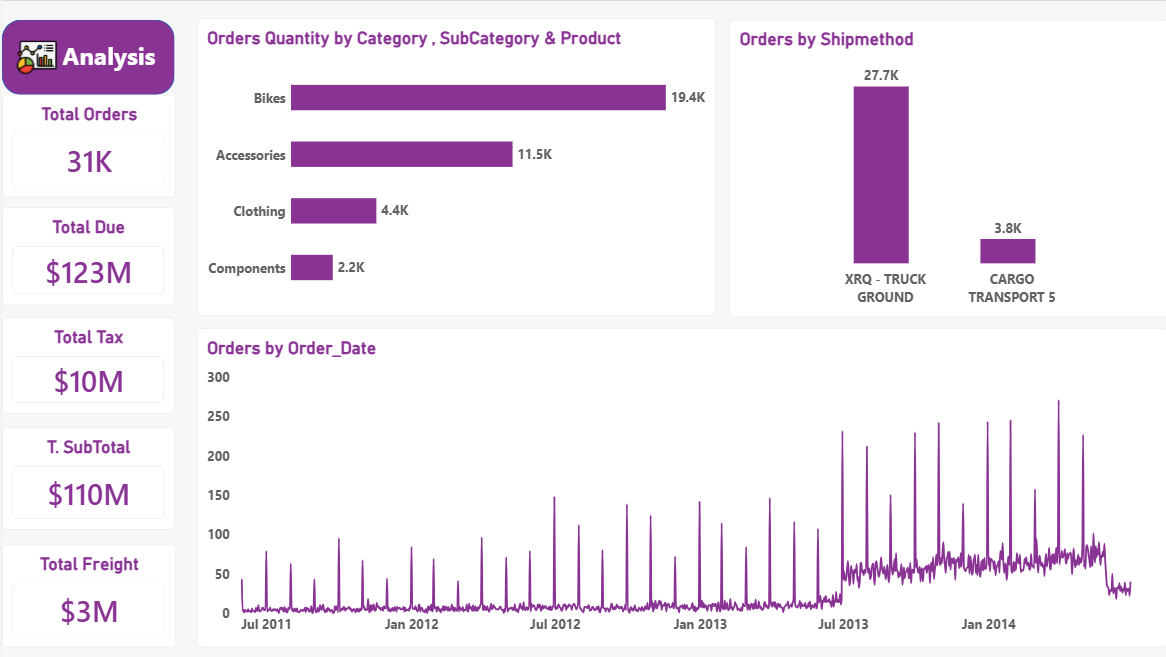

The page's visual inventory and layout, read from the dashboard file:
{"tool":"powerbi","page":{"name":"Overview","canvas":[1920,1080],"ordinal":1},"visuals":[{"type":"cardVisual","title":"Total Orders","fields":{"Data":["Sum(Measure_Summary.Orders)"]},"box":[0,154.2,286.1,168.8],"z":0},{"type":"cardVisual","title":"Total Tax","fields":{"Data":["Sum(Measure_Summary.Total Tax)"]},"box":[0,520.8,284,158.5],"z":1000},{"type":"cardVisual","title":"Total Freight","fields":{"Data":["Sum(Measure_Summary.Total Freight)"]},"box":[0,895.4,286.1,168.8],"z":2000},{"type":"cardVisual","title":"Total Due","fields":{"Data":["Sum(Measure_Summary.Total Due)"]},"box":[0,339.6,284,160.5],"z":3000},{"type":"cardVisual","title":"T. SubTotal","fields":{"Data":["Sum(Measure_Summary.Total SubTotal)"]},"box":[0,702.1,284,168.8],"z":4000},{"type":"lineChart","fields":{"Category":["Order_Header.Order_Date"],"Y":["Order_Header.Orders"]},"box":[321.1,539.3,1599.3,524.9],"z":5000},{"type":"clusteredColumnChart","title":"Orders by Shipmethod","fields":{"Category":["Ship_Method.Name"],"Y":["Order_Header.Orders"]},"box":[1197.9,30.9,722.5,489.9],"z":6000},{"type":"clusteredBarChart","title":"Orders Quantity by Category , SubCategory & Product","fields":{"Category":["Product_Category.Name","Product_Subcategory.Name","Product.Name"],"Y":["Order_Header.Qty"]},"box":[320.8,29.2,854.2,489.9],"z":7000},{"type":"shape","box":[0,30.9,284,123.5],"z":8000},{"type":"actionButton","box":[14.4,51.5,86.4,82.3],"z":9000},{"type":"actionButton","box":[65.9,45.3,220.2,88.5],"z":10000}]}

Visuals, with their boxes in screenshot pixels (x1, y1, x2, y2), scaled from the page's 1920x1080 canvas onto the 1166x657 screenshot:
"Total Orders" cardVisual: (0, 94, 174, 196)
"Total Tax" cardVisual: (0, 317, 172, 413)
"Total Freight" cardVisual: (0, 545, 174, 647)
"Total Due" cardVisual: (0, 207, 172, 304)
"T. SubTotal" cardVisual: (0, 427, 172, 530)
lineChart - Order_Header.Order_Date x Order_Header.Orders: (195, 328, 1165, 647)
"Orders by Shipmethod" clusteredColumnChart: (727, 19, 1165, 317)
"Orders Quantity by Category , SubCategory & Product" clusteredBarChart: (195, 18, 714, 316)
shape: (0, 19, 172, 94)
actionButton: (9, 31, 61, 81)
actionButton: (40, 28, 174, 81)
